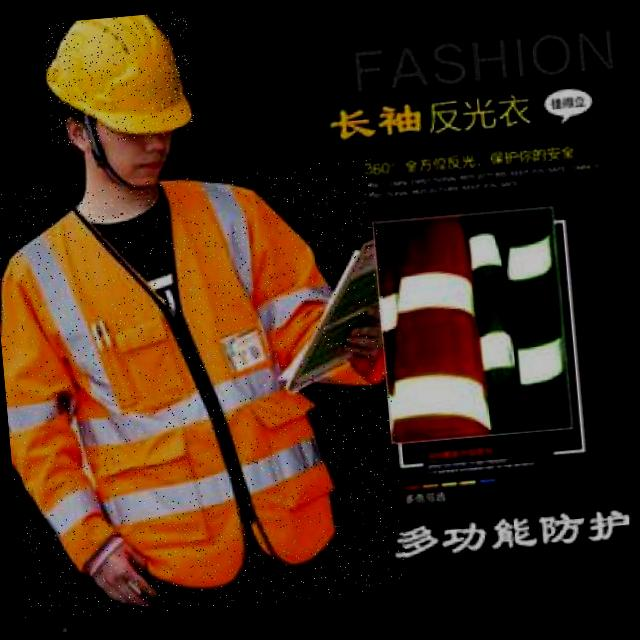helmet: (41, 10, 196, 146)
vest: (0, 158, 408, 624)
